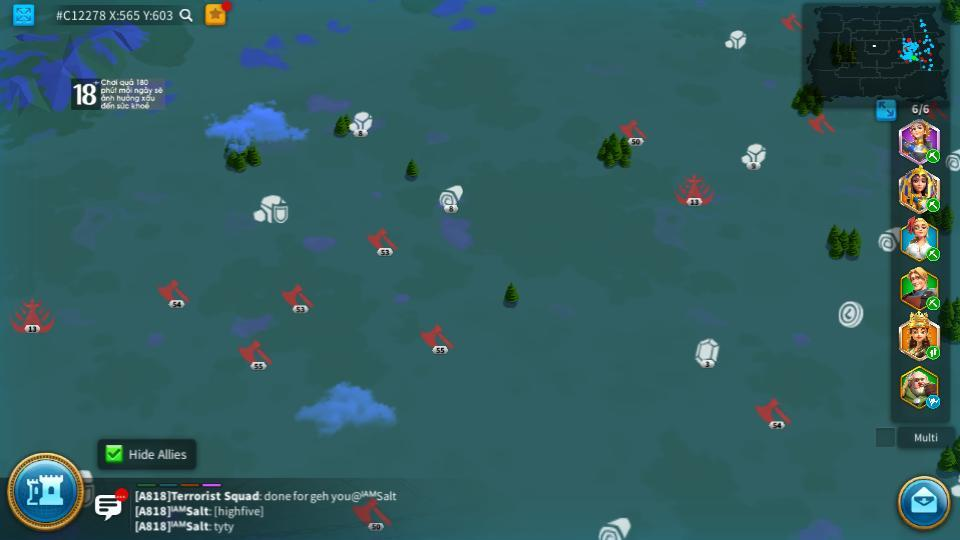gem-z-out: (693, 338, 721, 366)
march_farming: (925, 197, 941, 212)
march_idle: (925, 396, 942, 408)
march_marching: (925, 150, 941, 162), (926, 347, 941, 359), (926, 298, 941, 309)
